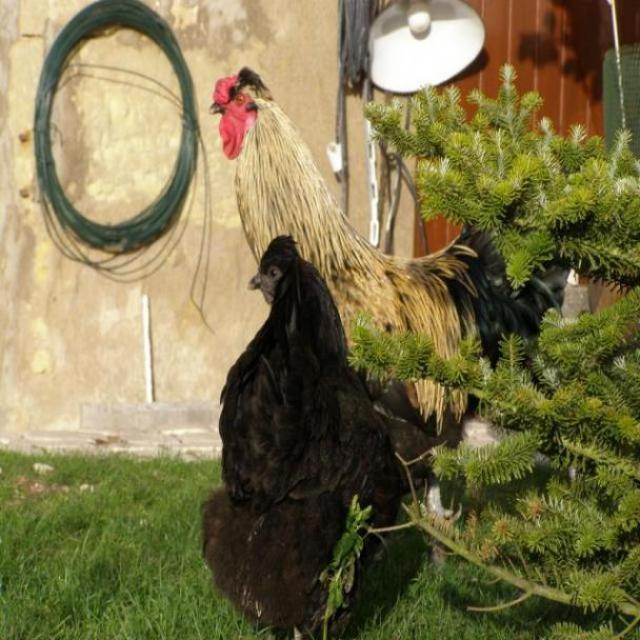Chicken: (210, 66, 568, 568), (199, 233, 439, 640)
